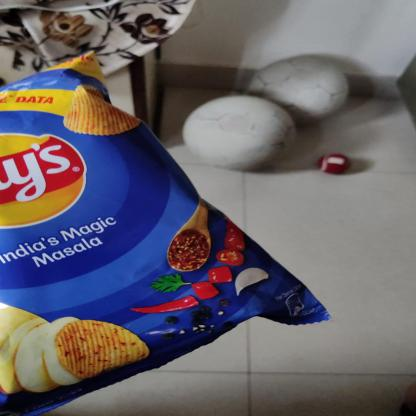indian_magic_masala: (0, 53, 329, 415)
